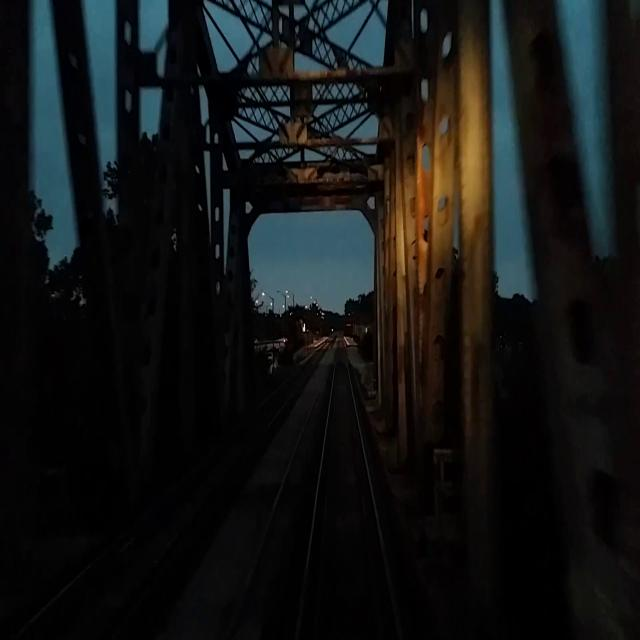rail-track: (116, 340, 334, 639), (300, 344, 399, 639)
